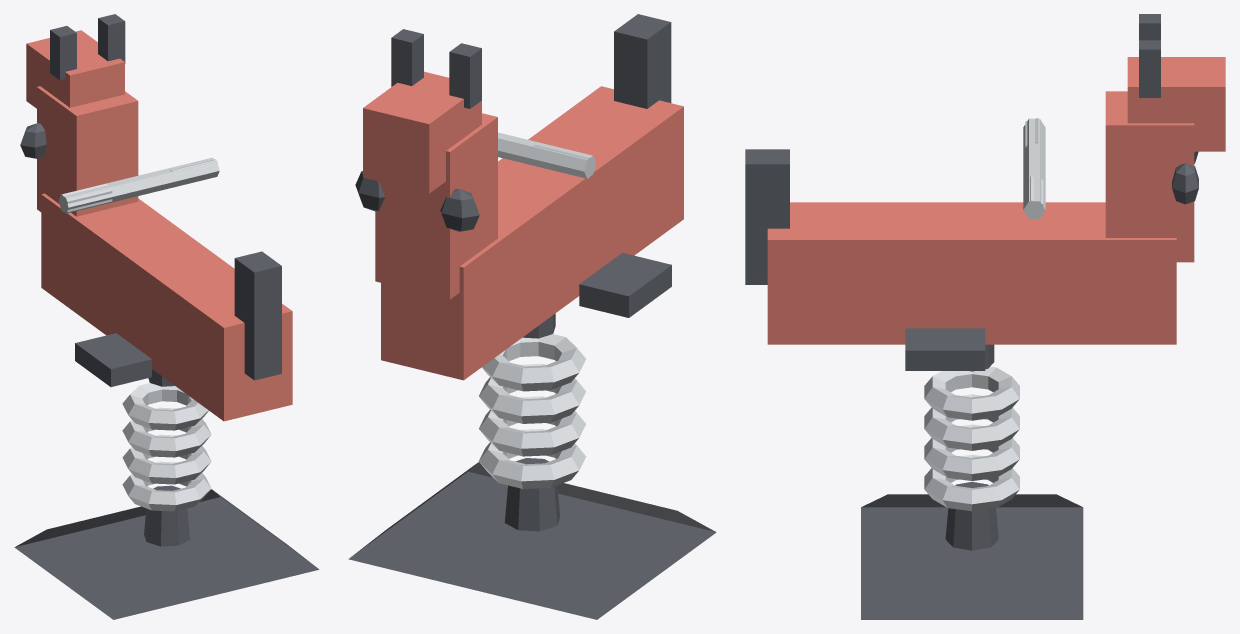
File: 33656-Horse-Spring-Rocker-City-Park-and-Playground.glb
3 views of the same model, side by side, from view 1: azimuth 30°, elevation 25°; view 2: azimuth 150°, elevation 25°; view 3: azimuth 270°, elevation 25° (orthographic). The views are drawn at different scales.
Visible parts, largest first — view 1: rocker/poppy, spring-rocker-charcoal, rocker/charcoal, spring-rocker-steel, rocker/steel; view 2: rocker/poppy, spring-rocker-charcoal, rocker/charcoal, spring-rocker-steel, rocker/steel; view 3: rocker/poppy, spring-rocker-charcoal, spring-rocker-steel, rocker/charcoal, rocker/steel.
Boxes of the visible parts, box(x1,y1,x2,y2) form: rocker/poppy: box(26, 30, 292, 421); spring-rocker-charcoal: box(14, 485, 319, 619); rocker/charcoal: box(20, 14, 281, 386); spring-rocker-steel: box(122, 383, 211, 511); rocker/steel: box(58, 157, 219, 213); rocker/poppy: box(363, 71, 683, 380); spring-rocker-charcoal: box(348, 458, 716, 619); rocker/charcoal: box(355, 14, 671, 338); spring-rocker-steel: box(478, 334, 586, 488); rocker/steel: box(498, 132, 595, 178); rocker/poppy: box(767, 57, 1225, 344); spring-rocker-charcoal: box(861, 481, 1083, 619); spring-rocker-steel: box(924, 366, 1019, 511); rocker/charcoal: box(745, 14, 1198, 371); rocker/steel: box(1023, 118, 1045, 219).
Bounding box in the file's own units: 0.6 × 1.32 × 1.08.
